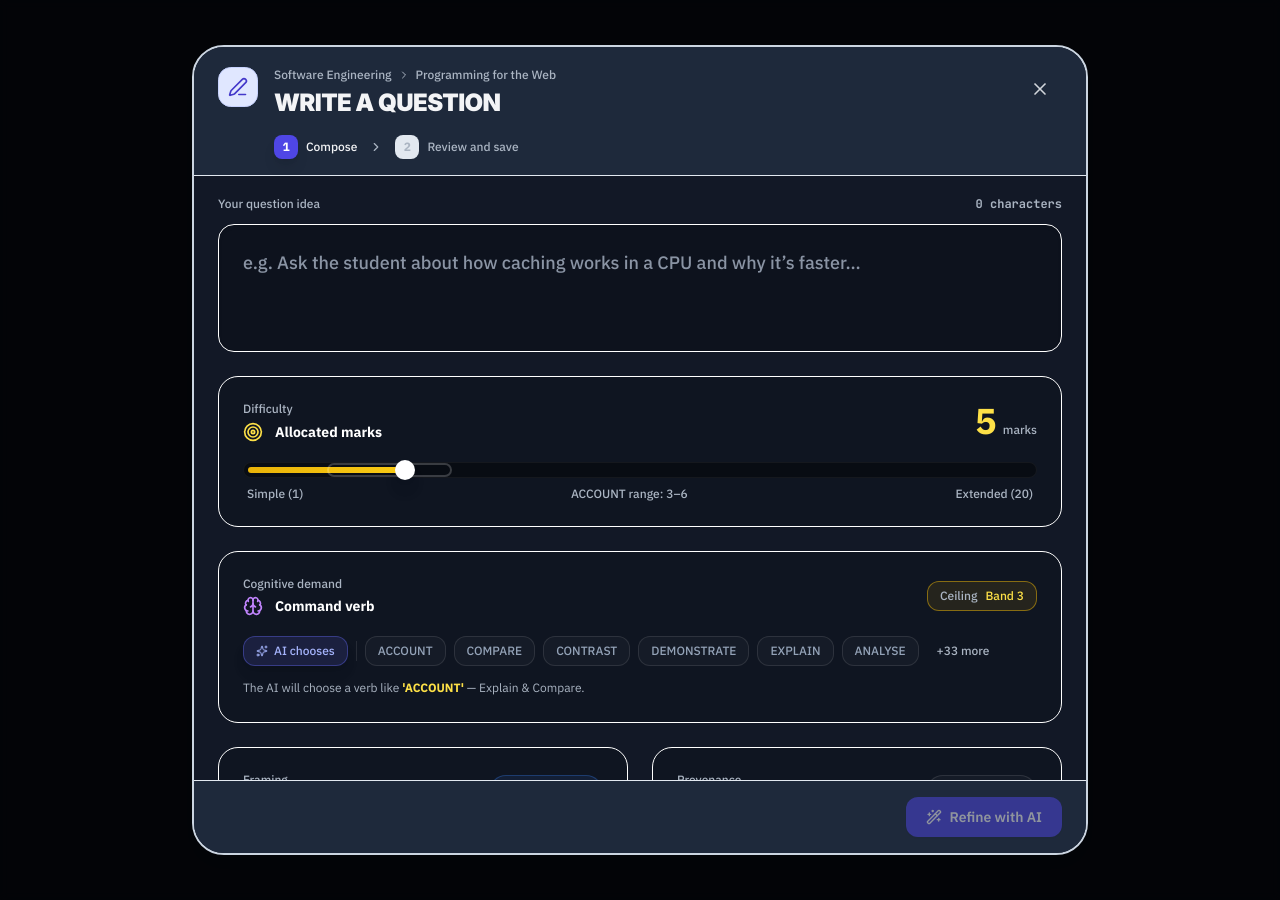
it: ManualPromptModal — composing › pins the outcomes a teacher selects instead of letting the AI guess
The width and height of the screenshot is (1280, 900).
Replace the text in the text box labelled "Your question idea" with "ask about CPU caching" at (640, 288), box [218,224,1062,352]
(page scrolled)
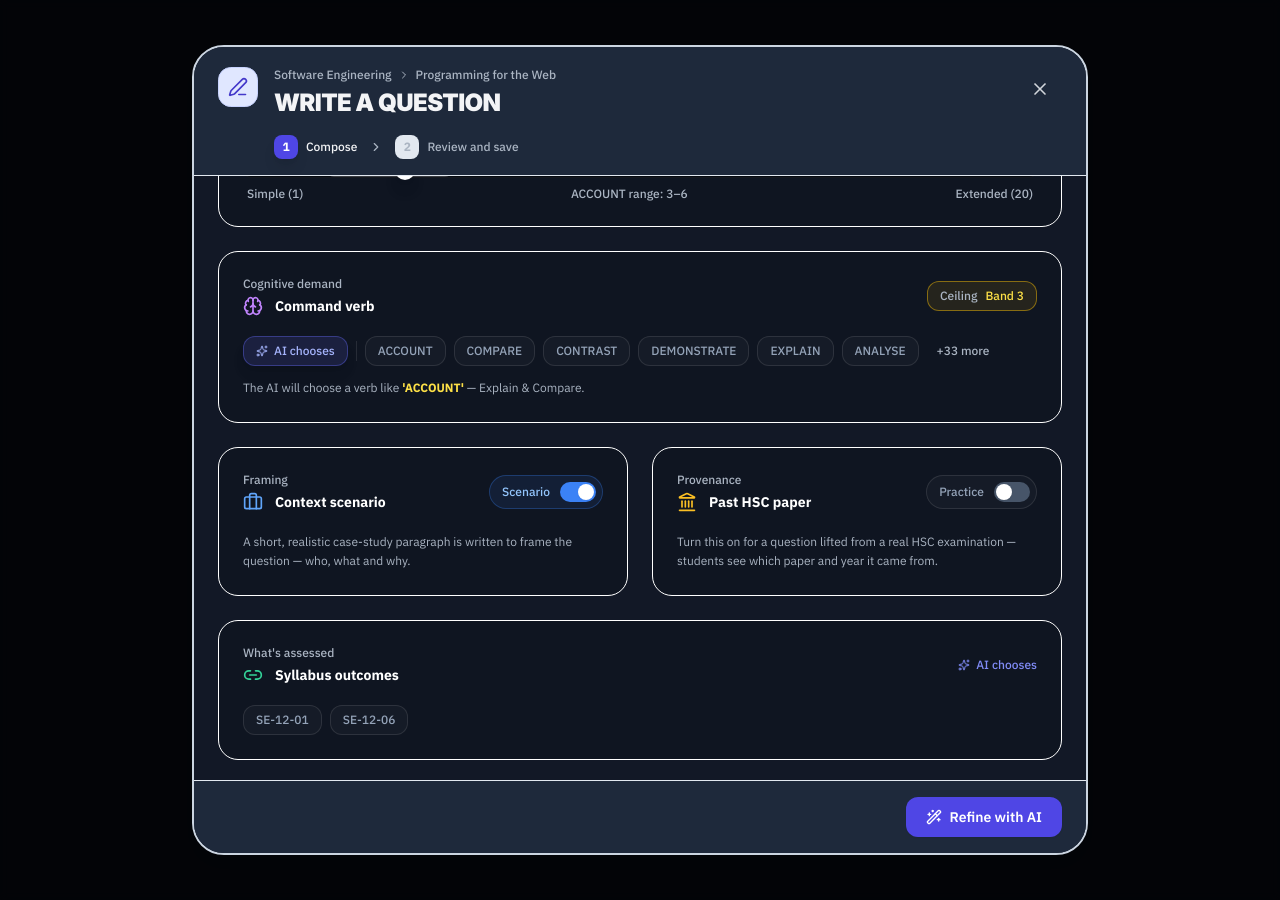
Click the button "SE-12-06" at (369, 720), box [330,705,408,735]
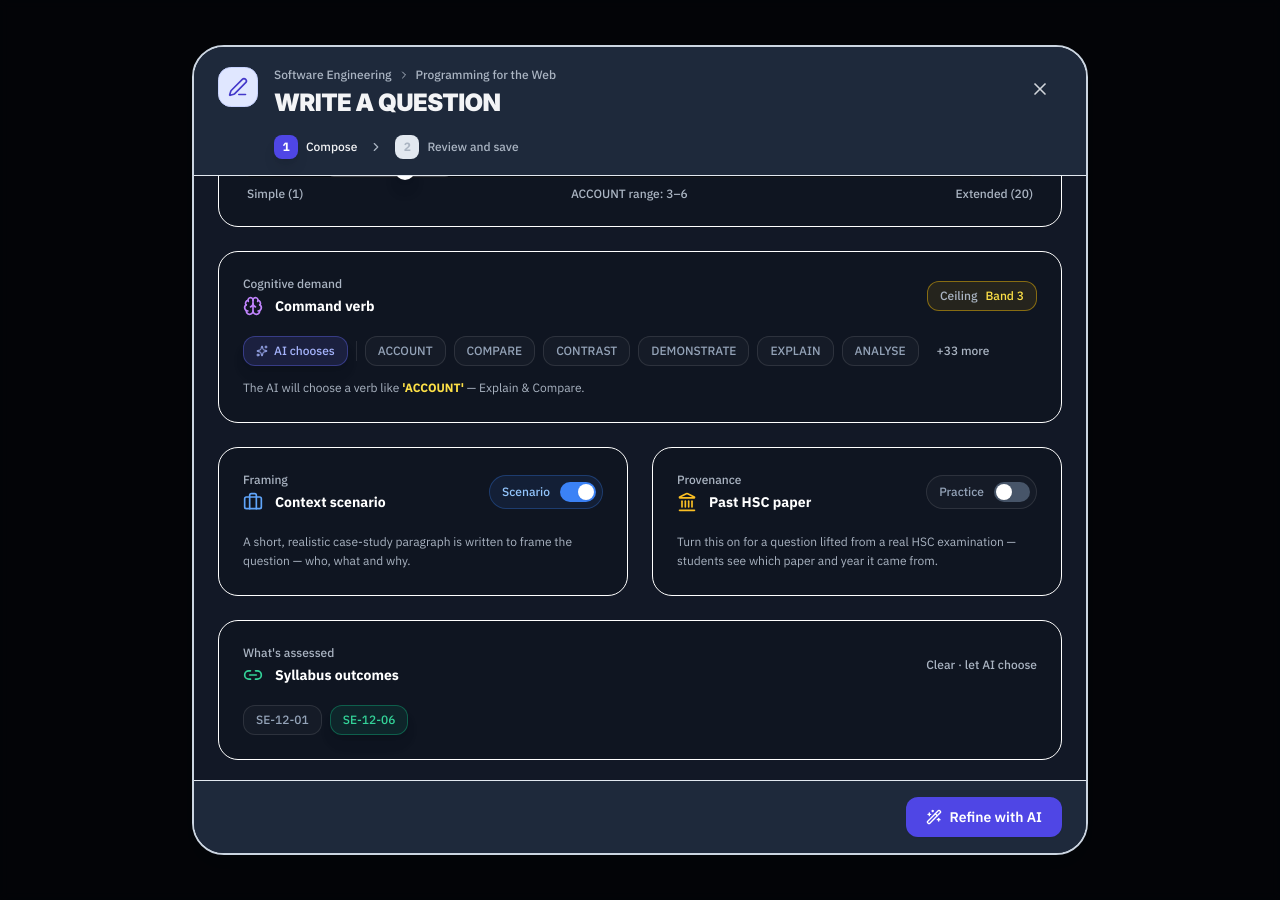
Click the button "Refine with AI" at (984, 817), box [906,797,1062,837]
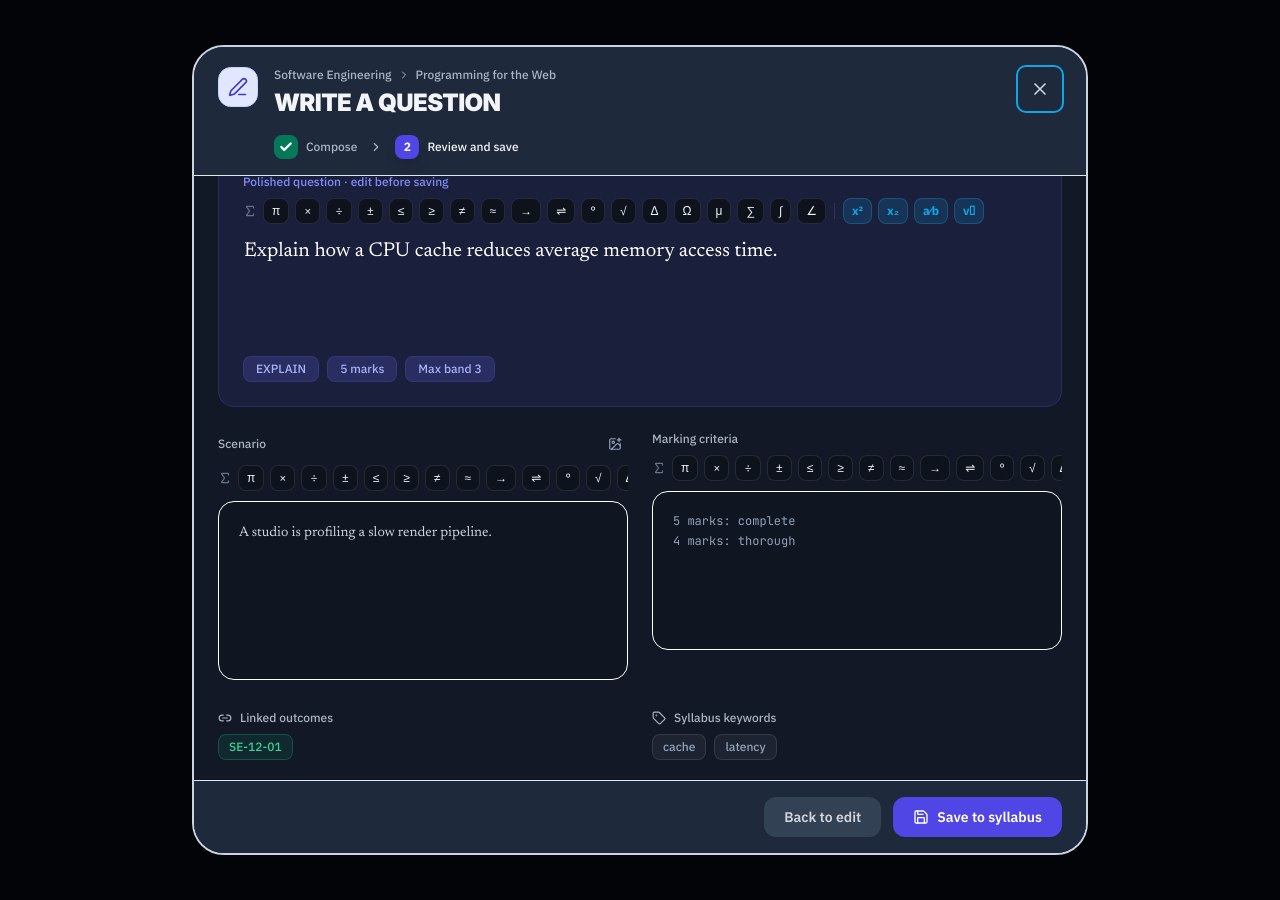
Check: the text box labelled "Polished question · edit before saving" is shown, box [235,226,1029,342]
